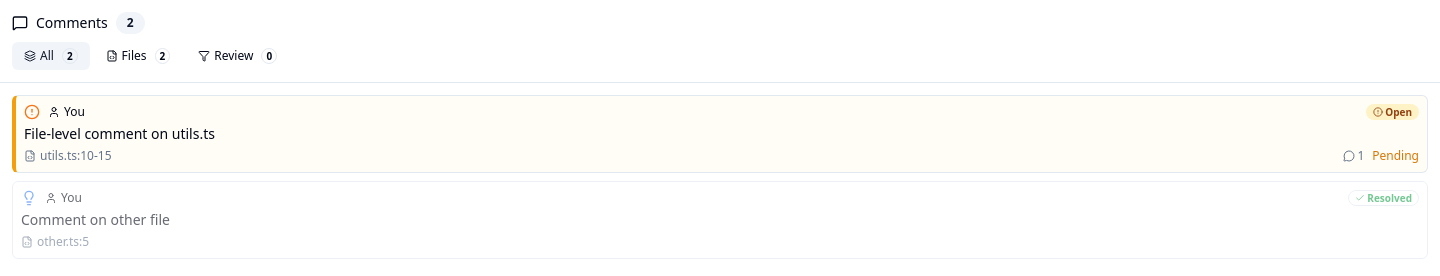
it: CommentPanel › empty states › shows empty state for review-level when none exist
Expected: the text "File-level comment on utils.ts" is shown, left=24, top=124, right=215, bottom=143
Click the button with aria-label "review filter" at (238, 56), box left=186, top=42, right=289, bottom=70
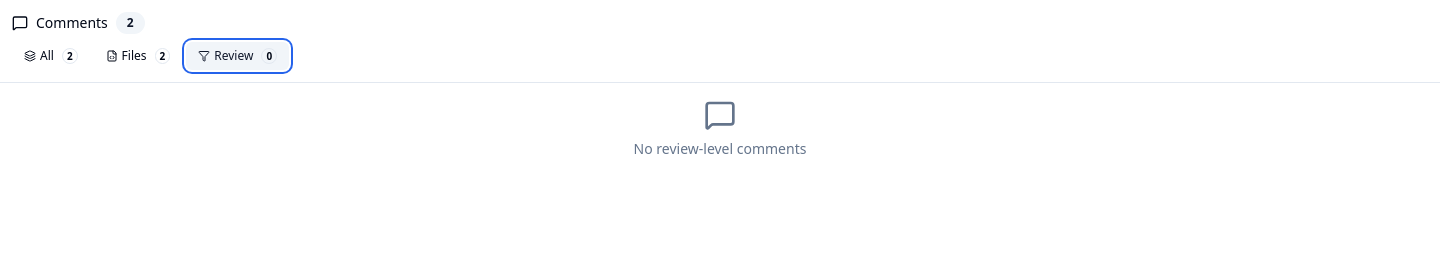
Now the text "No review-level comments" is shown, box left=634, top=139, right=806, bottom=159
